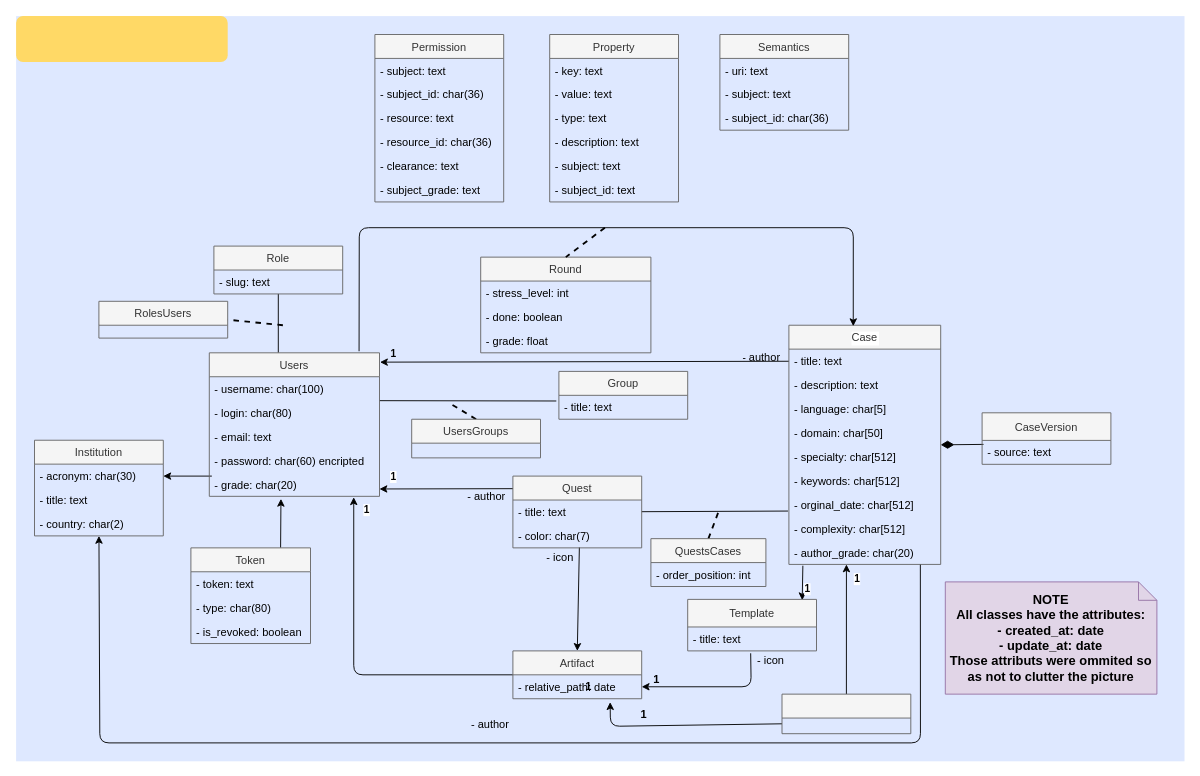
This 1200x776 diagram has some shape labels left out. Here are the shapes that lost their labels. From the top down, the centre of each, then its label:
the point at 121,39: Class Diagram - Release: v1_2_1 Author: Fagner Leal
the point at 846,713: CaseArtifacts
